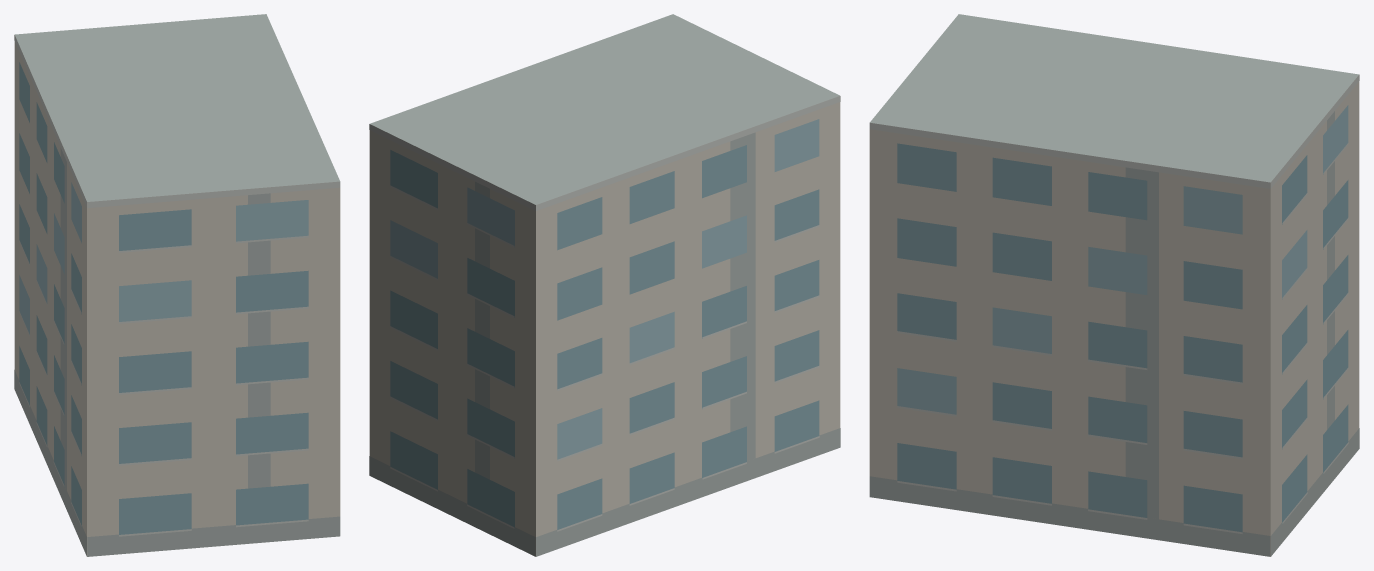
File: survey-upis-32882580.glb
3 renders of one model, left to right at view 1: azimuth 30°, elevation 25°; view 2: azimuth 150°, elevation 25°; view 3: azimuth 270°, elevation 25°, orthographic. The views are drawn at different scales.
Visible parts, largest first — view 1: survey-upis-32882580.tmp; view 2: survey-upis-32882580.tmp; view 3: survey-upis-32882580.tmp.
Boxes of the visible parts, x1=… form: survey-upis-32882580.tmp: x1=14, y1=14, x2=340, y2=556; survey-upis-32882580.tmp: x1=369, y1=14, x2=840, y2=556; survey-upis-32882580.tmp: x1=869, y1=14, x2=1359, y2=556.
Size of the model in its own units: 13.52 by 14 by 16.61.
